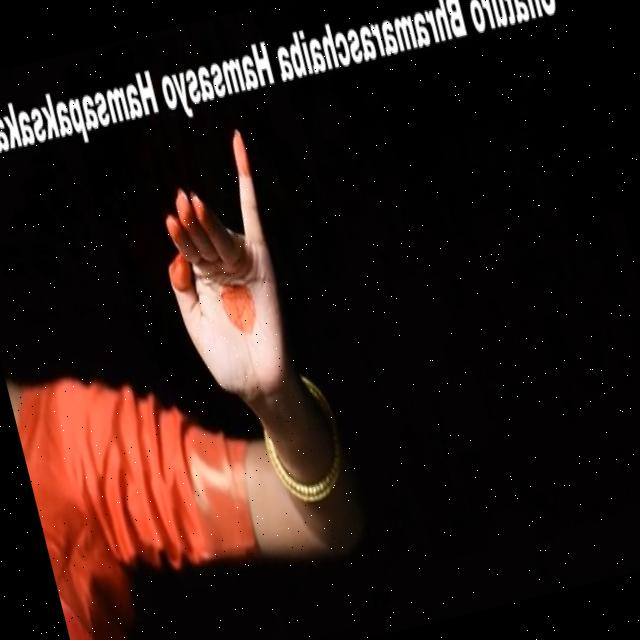Hamsapaksha: (118, 115, 321, 428)
bangle: (250, 389, 368, 527)
text: (0, 0, 569, 179)
